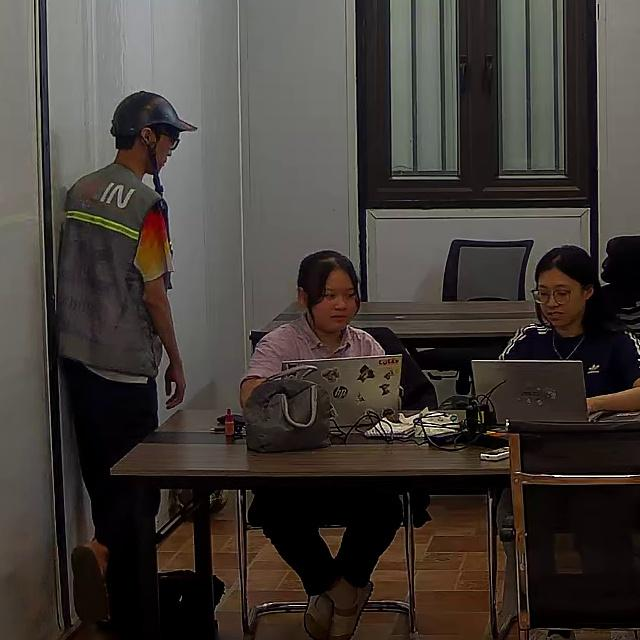helmet: (109, 90, 198, 140)
no_helmet: (532, 245, 609, 331), (296, 250, 361, 324)
none: (241, 311, 385, 405), (497, 322, 640, 401)
vest: (53, 165, 174, 380)
